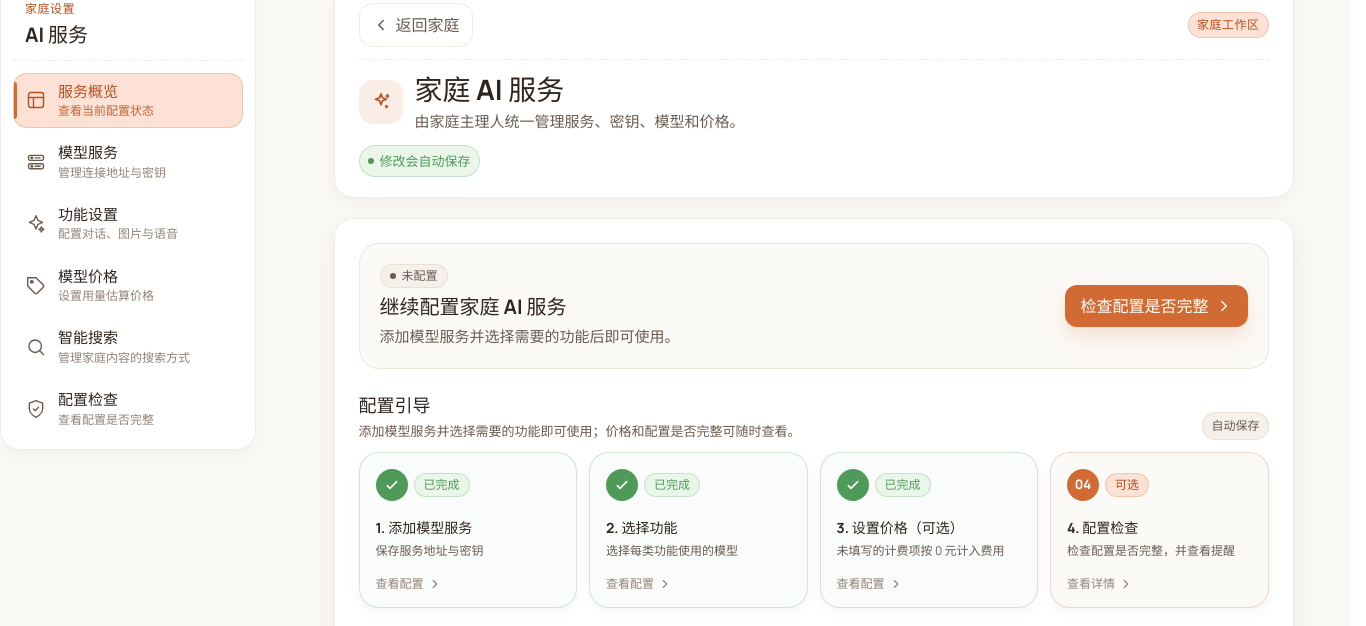
Test: FamilyModelSettingsWorkspace › keeps a capability test result when leaving and reopening the section
Click the button "功能设置 配置对话、图片与语音": [128, 224] box [13,196,243,252]
(page scrolled)
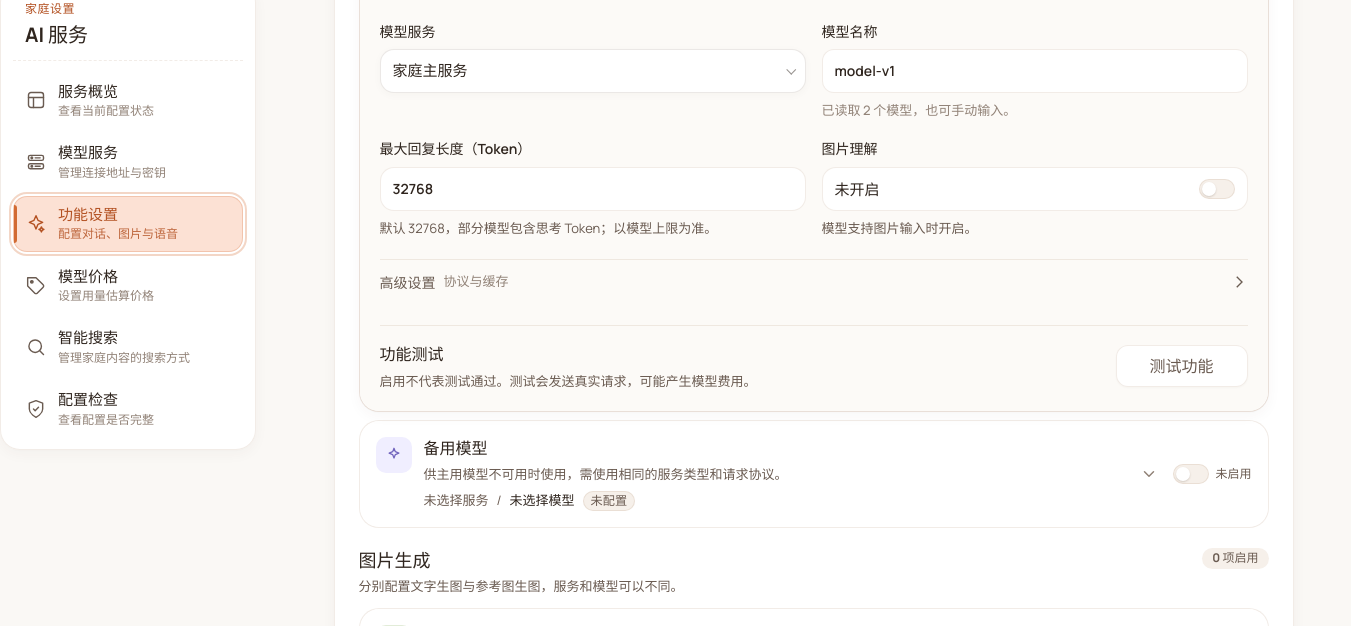
Click the button "测试功能": [1182, 366] box [1116,345,1248,387]
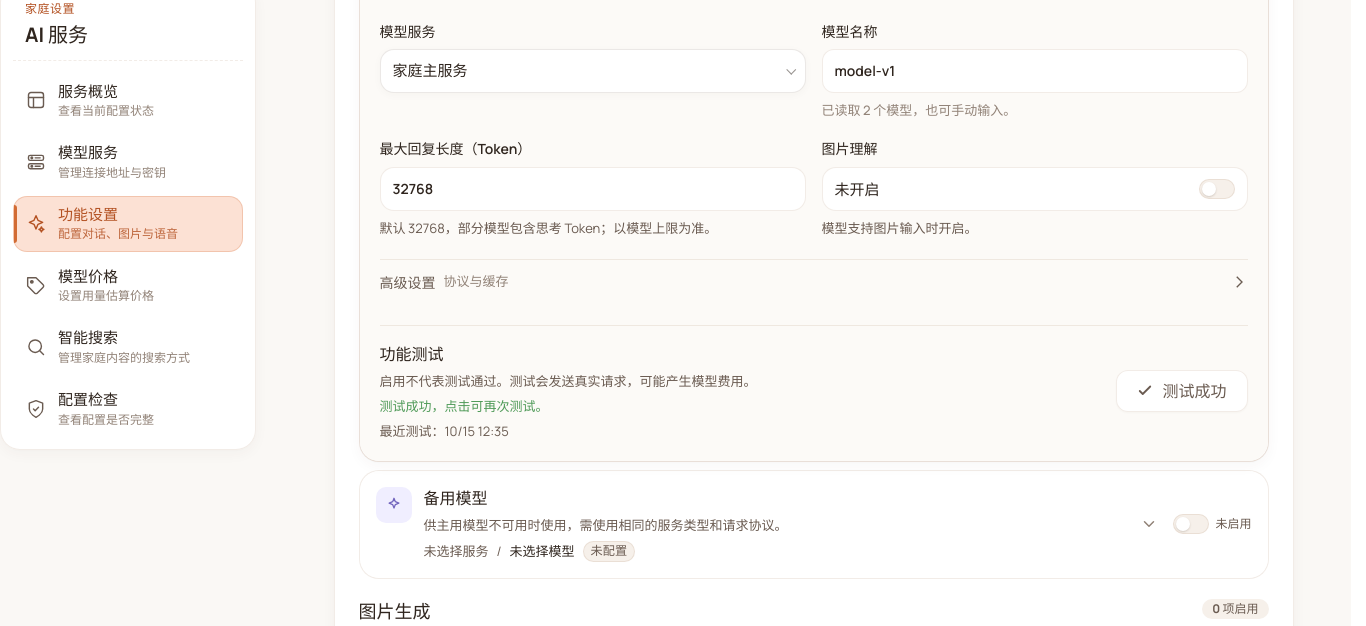
expect the button "测试成功" is shown: met, box [1116,370,1248,412]
Click the button "模型价格 设置用量估算价格": [128, 286] box [13,258,243,313]
(page scrolled)
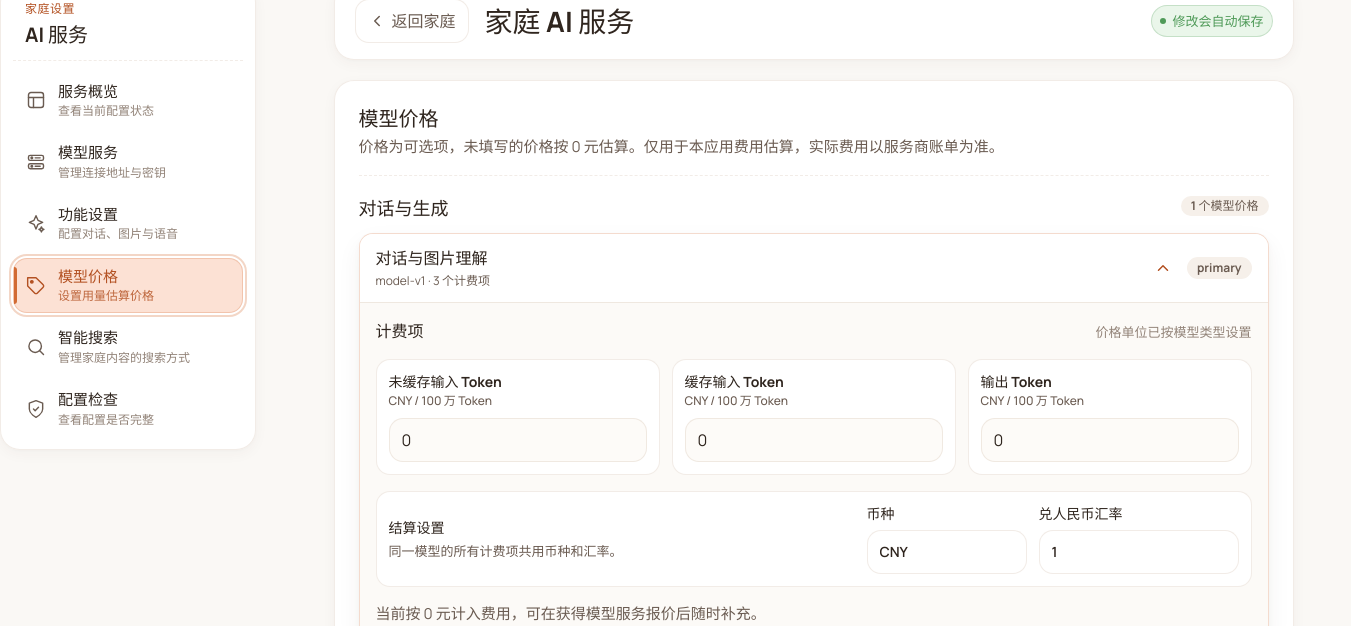
Click the button "功能设置 配置对话、图片与语音": [128, 224] box [13,196,243,252]
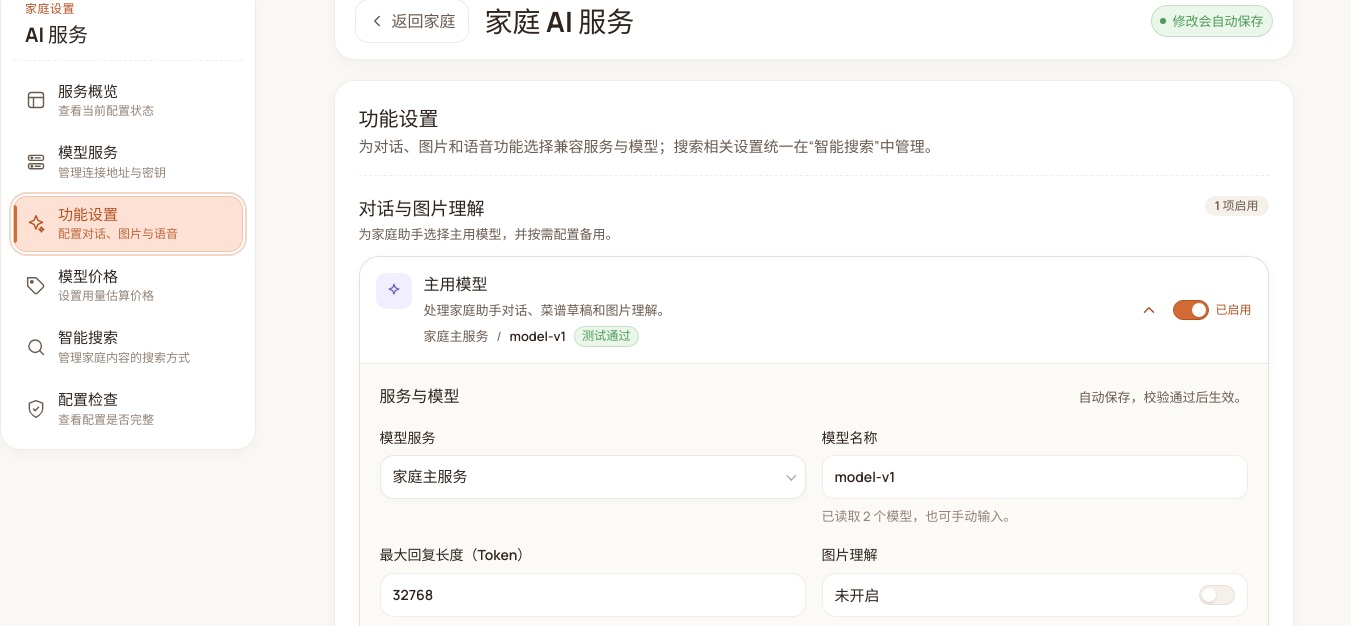
expect the text "测试通过" is shown: met, box [574,326,638,347]
